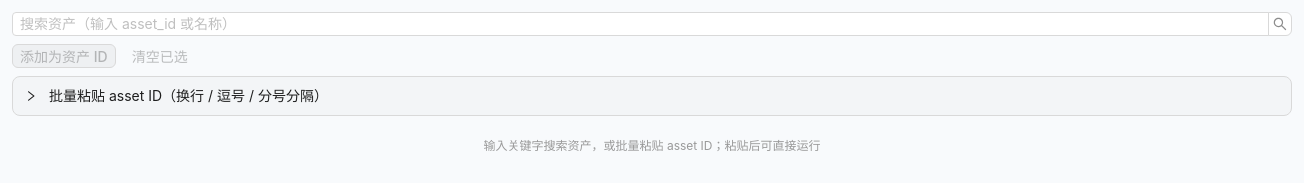
AssetPicker › shows error state when search API fails
In the search field with placeholder "搜索资产（输入 asset_id 或名称）": (640, 24) x1=12 y1=12 x2=1269 y2=36, type "ast"
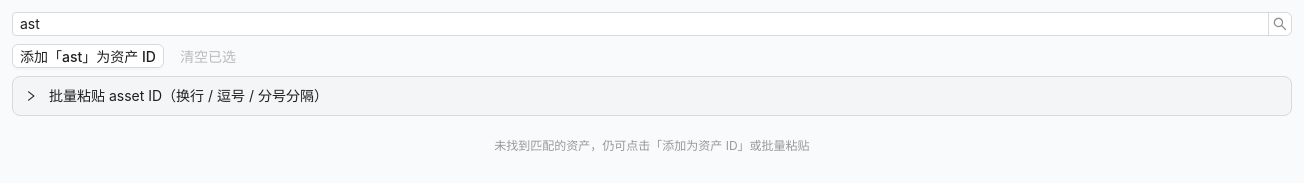
Click the 1st button: click(1280, 24) x1=1268 y1=12 x2=1292 y2=36
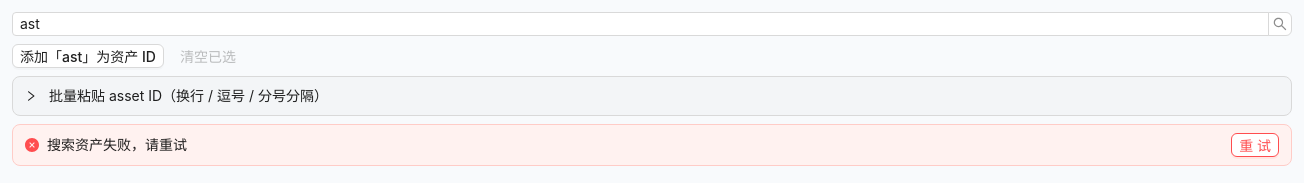
Result: the text "搜索资产失败，请重试" is shown at x1=47 y1=136 x2=187 y2=153
Result: the text "未找到匹配的资产，仍可点击「添加为资产 ID」或批量粘贴" is gone
